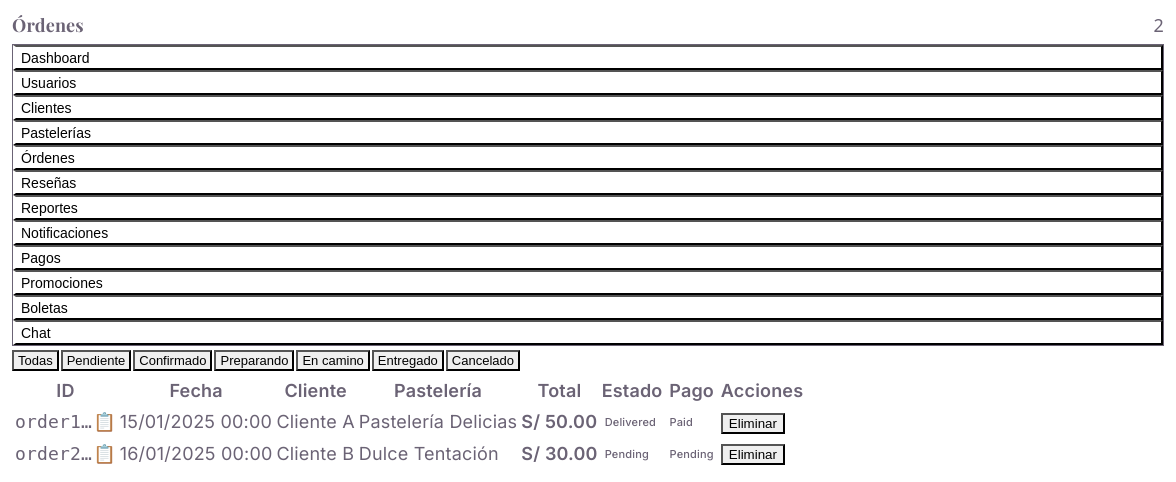
Test: AdminOrders › filtra por estado
Expected: the text "Cliente A" is shown, [276, 407, 356, 437]
Click the button "Pendiente" at (96, 361), box [61, 350, 131, 371]
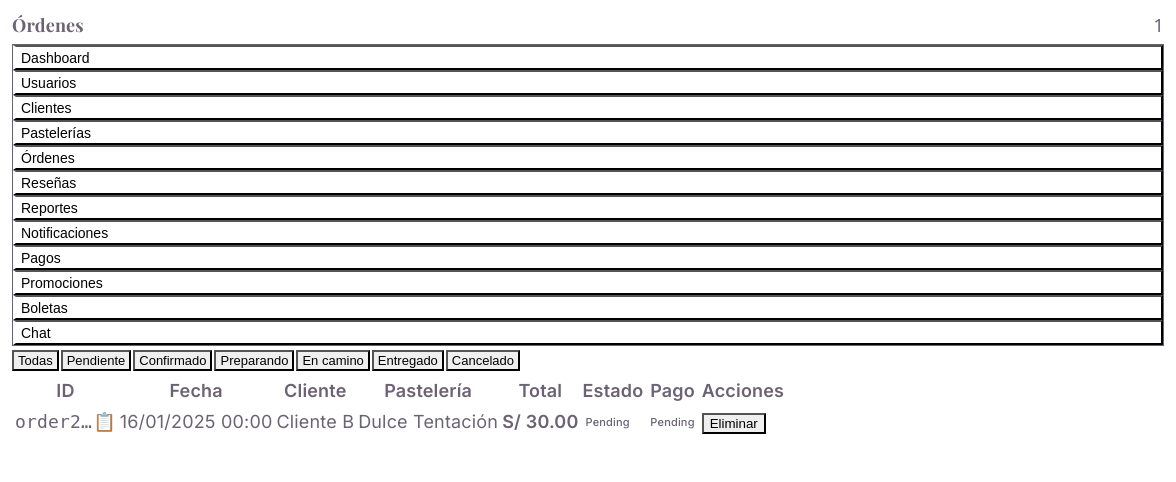
Expected: the text "Cliente B" is shown, [276, 407, 355, 437]
Now the text "Cliente A" is gone
